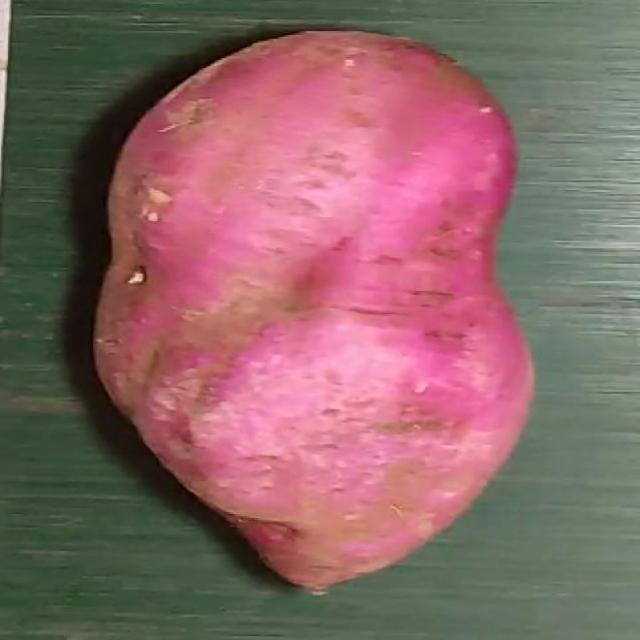Sweet Potato: (93, 29, 535, 591)
